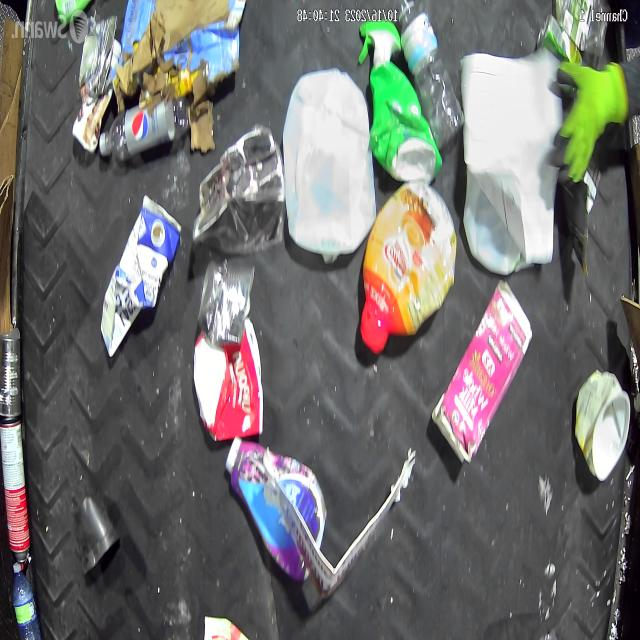can: (198, 259, 255, 345), (0, 416, 31, 569), (78, 14, 118, 94), (536, 11, 583, 65), (0, 327, 22, 416)
milk_jug: (282, 68, 377, 257)
non_white_jug: (430, 279, 533, 465), (359, 181, 458, 353), (356, 20, 444, 184)
plastic_bottle: (398, 0, 464, 151), (99, 88, 190, 160), (12, 561, 42, 640)
